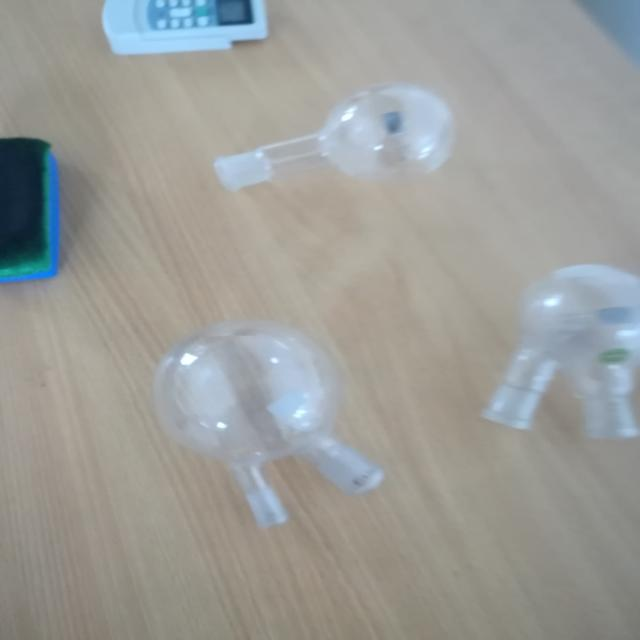Round_Bottom_Flask_Borosilicate_Glass_1_Neck: (179, 73, 480, 231)
Round_Bottom_Flask_Borosilicate_Glass_2_Neck: (90, 318, 412, 546)
